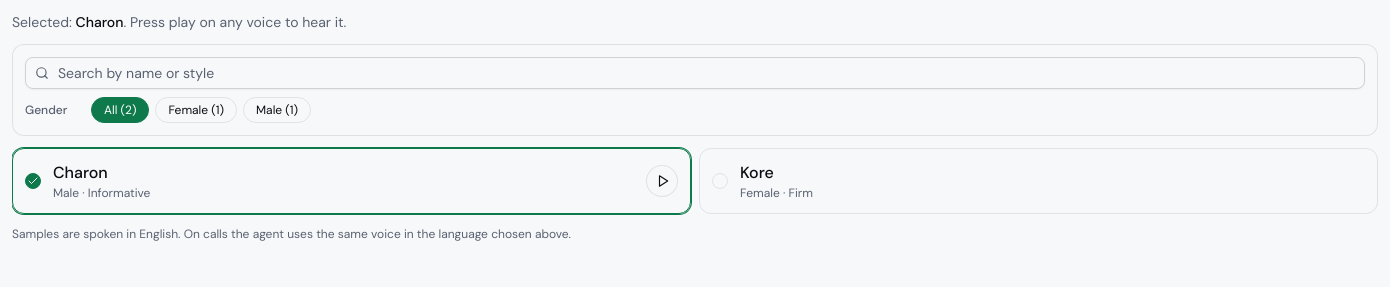
Test: GeminiLiveVoicePicker › reports a failed sample
Click the button named "Play Charon sample" at [662, 181], box [646, 165, 678, 197]
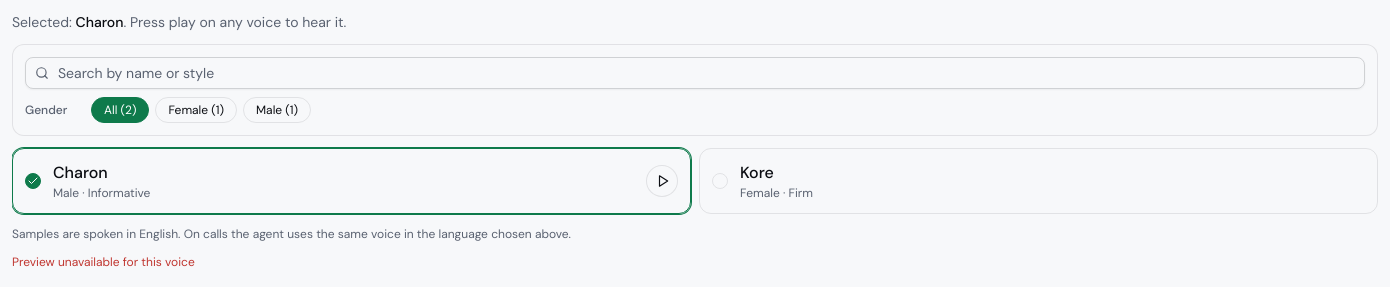
Result: the text "Preview unavailable for this voice" is shown at [12, 254, 195, 270]
